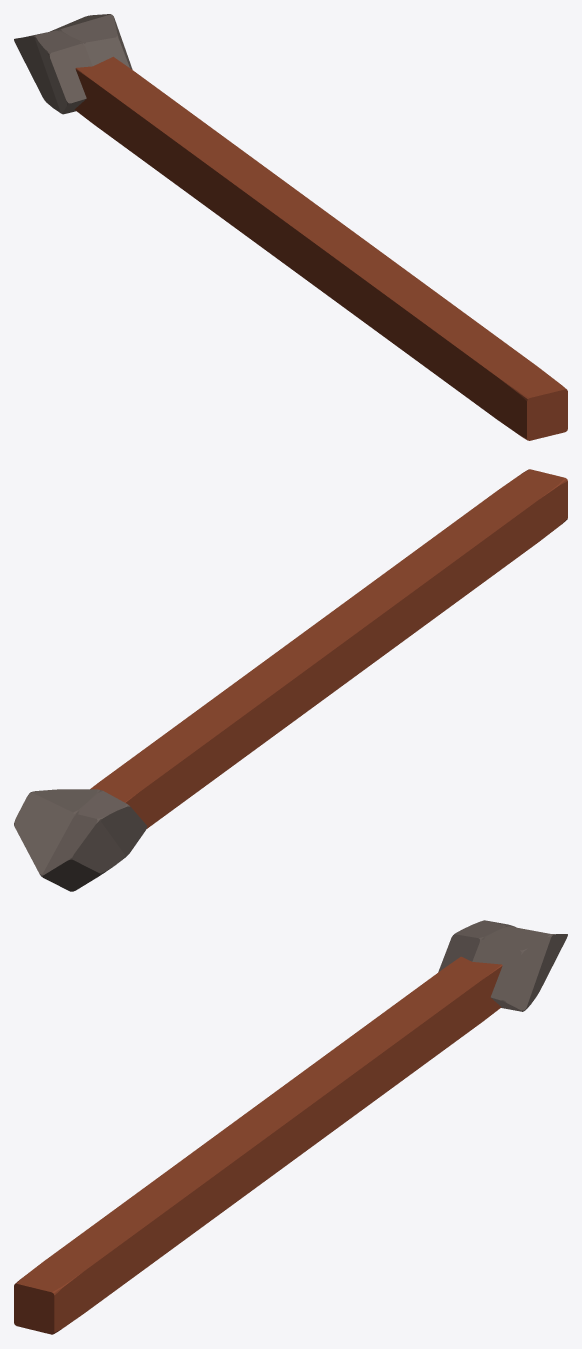
File: StonePike.fbx
The picture shows the model from 3 angles, top to bottom: view 1: azimuth 30°, elevation 25°; view 2: azimuth 150°, elevation 25°; view 3: azimuth 330°, elevation 25°; orthographic projection.
Parts seen in each view (by area): view 1: Cube.009; view 2: Cube.009; view 3: Cube.009.
Part boxes in pixels (x1,y1,x2,y2): Cube.009: (14,14,567,440); Cube.009: (14,469,567,891); Cube.009: (14,920,567,1334).
Bounding box in the file's own units: 2.04 × 1.96 × 22.12.
